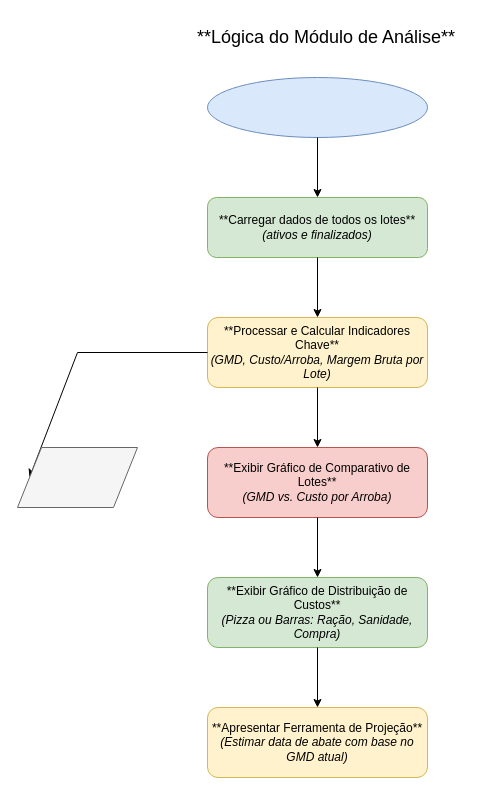
Some shapes in this 494 by 795 pixel diagram are drawn without their labels. Here are the shapes that lost their labels. From the top down, the centre of each, then its label:
At point (317, 107): "**Entrada (Usuário acessa 'Relatórios')**".
At point (77, 477): "Decisão do Produtor (Estratégia de manejo, compra/venda)".
